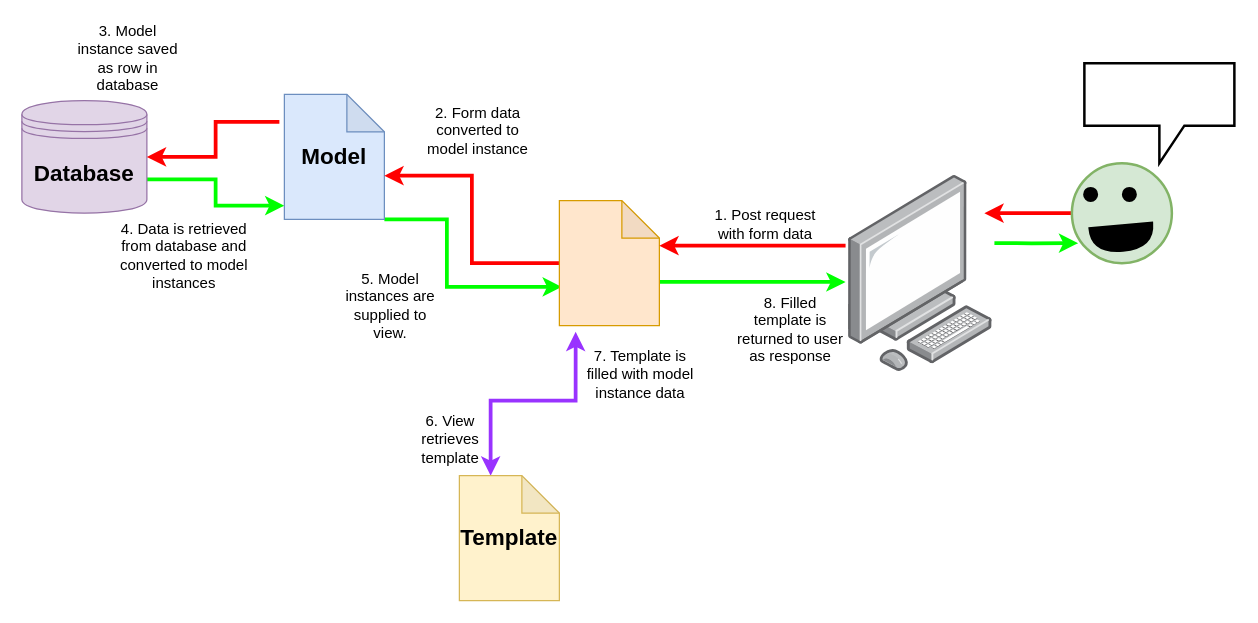
Some shapes in this 1258 by 623 pixel diagram are drawn without their labels. Each missing label, with the centre of its shape:
"I saw a bird!" belongs at pixel 1158 112.
"View" belongs at pixel 608 262.
